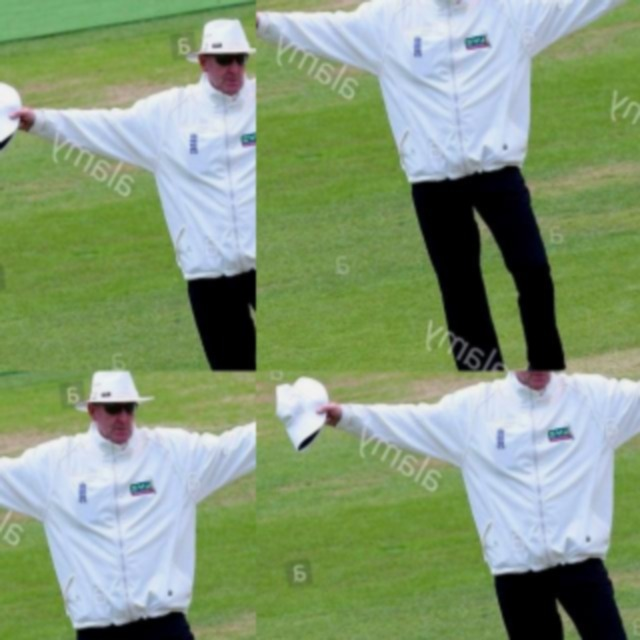No_Ball: (0, 371, 256, 640), (354, 0, 640, 201)
Six: (170, 0, 256, 246)
Wide: (256, 371, 640, 640)
